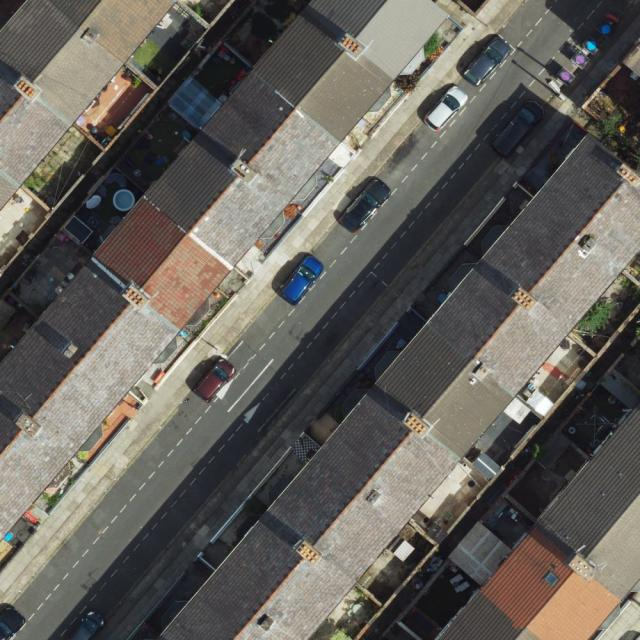roof: (155, 133, 640, 640), (0, 0, 449, 542), (439, 403, 640, 640), (0, 0, 179, 208)
skylight: (542, 569, 562, 589)
